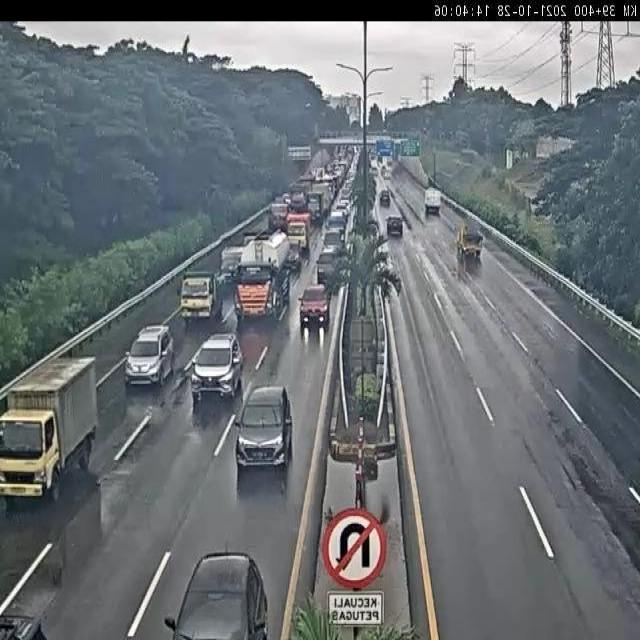Car: (163, 552, 270, 638), (226, 383, 300, 479), (189, 332, 245, 406), (125, 323, 176, 387), (294, 286, 330, 341), (0, 610, 51, 640), (316, 247, 340, 284), (386, 216, 404, 237), (380, 189, 390, 207), (381, 166, 388, 179)
Truck: (0, 351, 113, 495), (227, 237, 300, 330), (179, 269, 224, 326), (454, 214, 490, 267), (285, 211, 312, 256), (304, 183, 332, 223), (219, 244, 244, 282), (269, 202, 289, 232), (290, 180, 310, 207), (424, 188, 442, 216)
